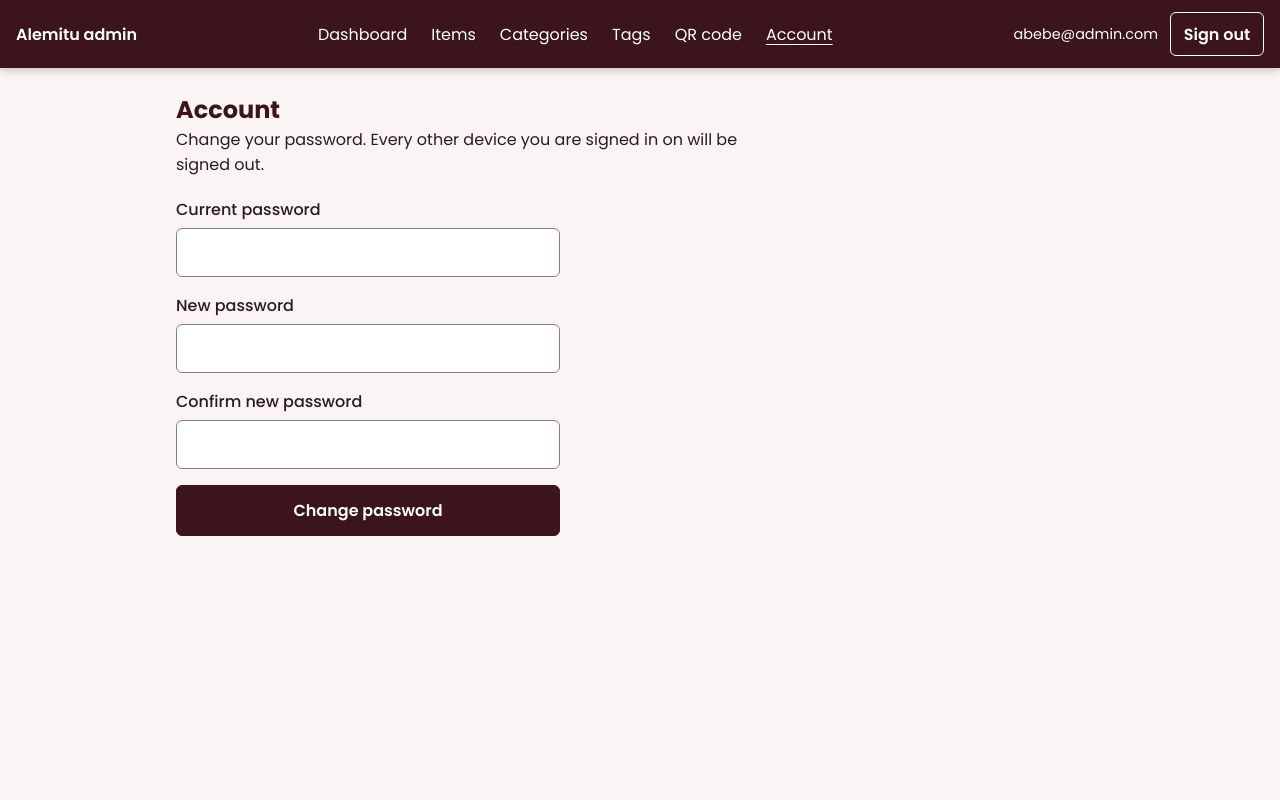
Test case: account settings › explains a too-short password and sends nothing
Type "old-password-123" into the password field labelled "Current password" at (368, 252), box [176, 228, 560, 277]
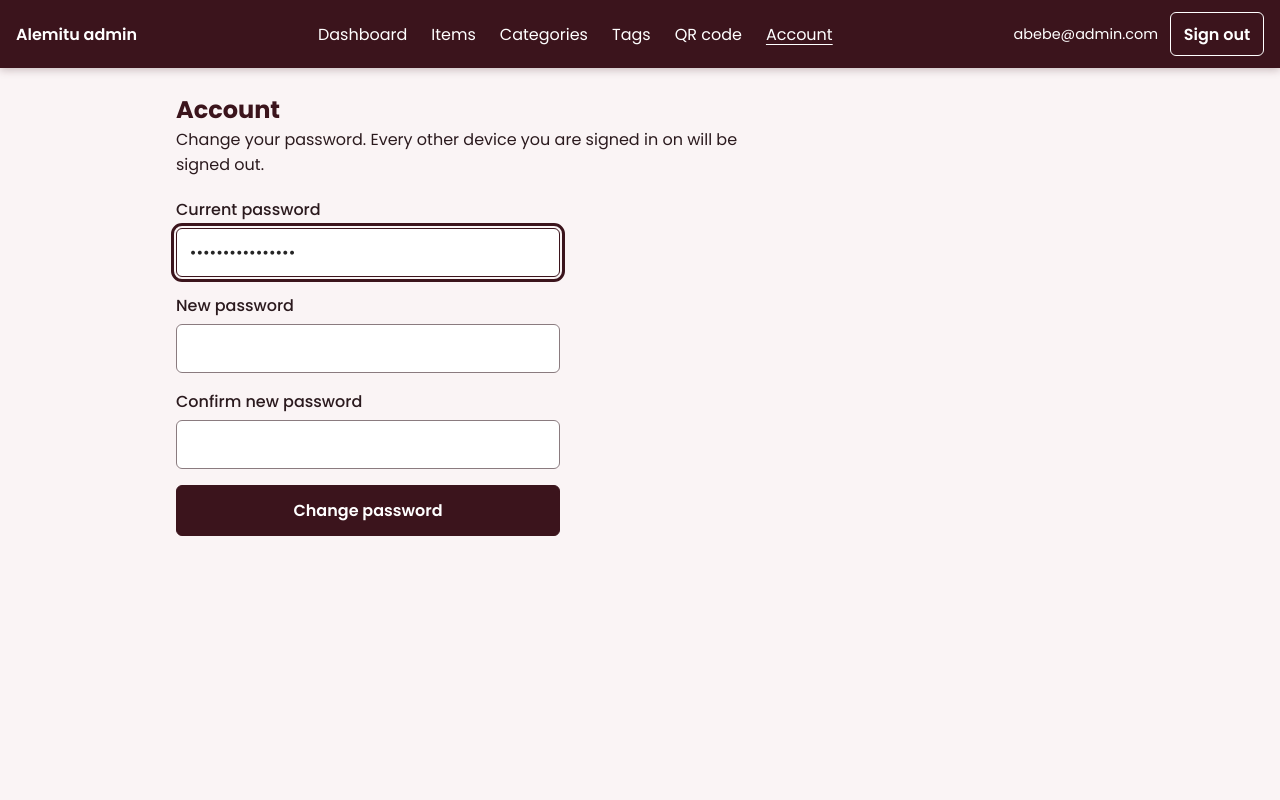
Type "short" into the password field labelled "New password" at (368, 348), box [176, 324, 560, 373]
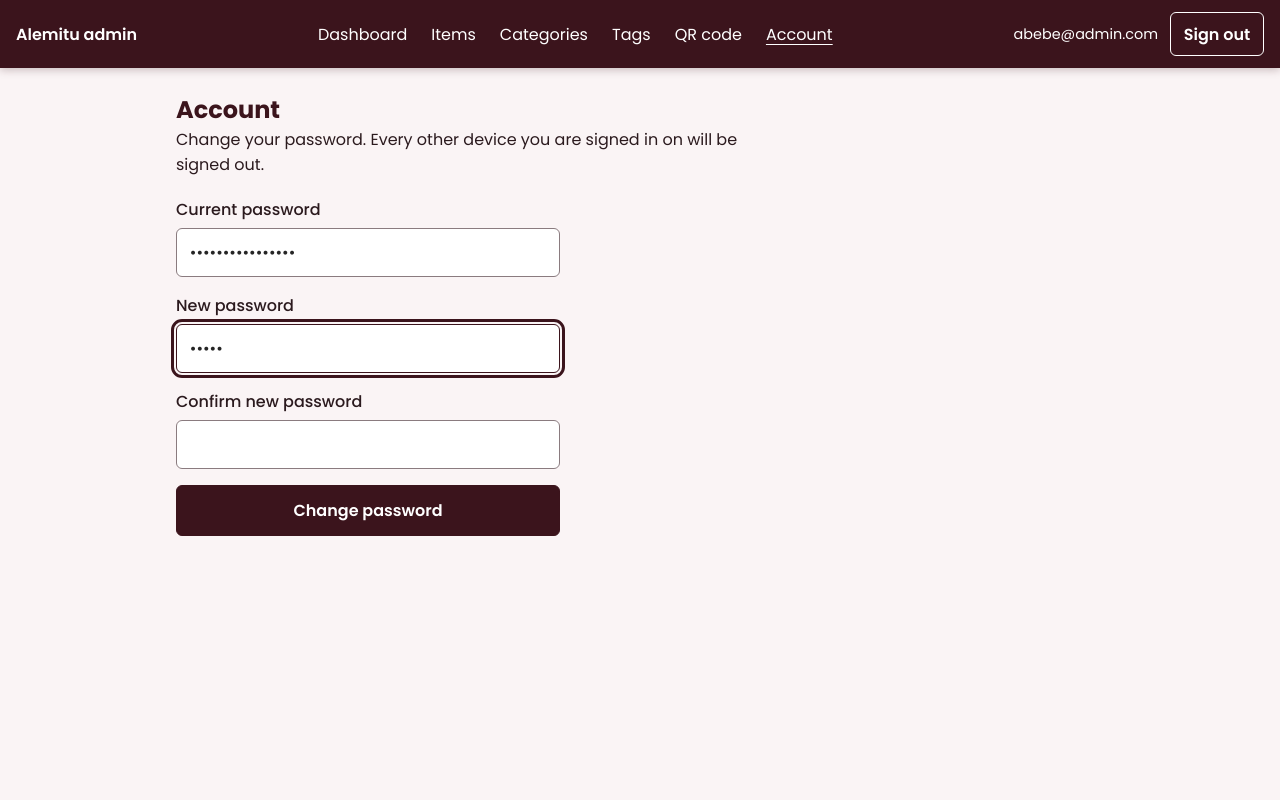
Type "short" into the password field labelled "Confirm new password" at (368, 444), box [176, 420, 560, 469]
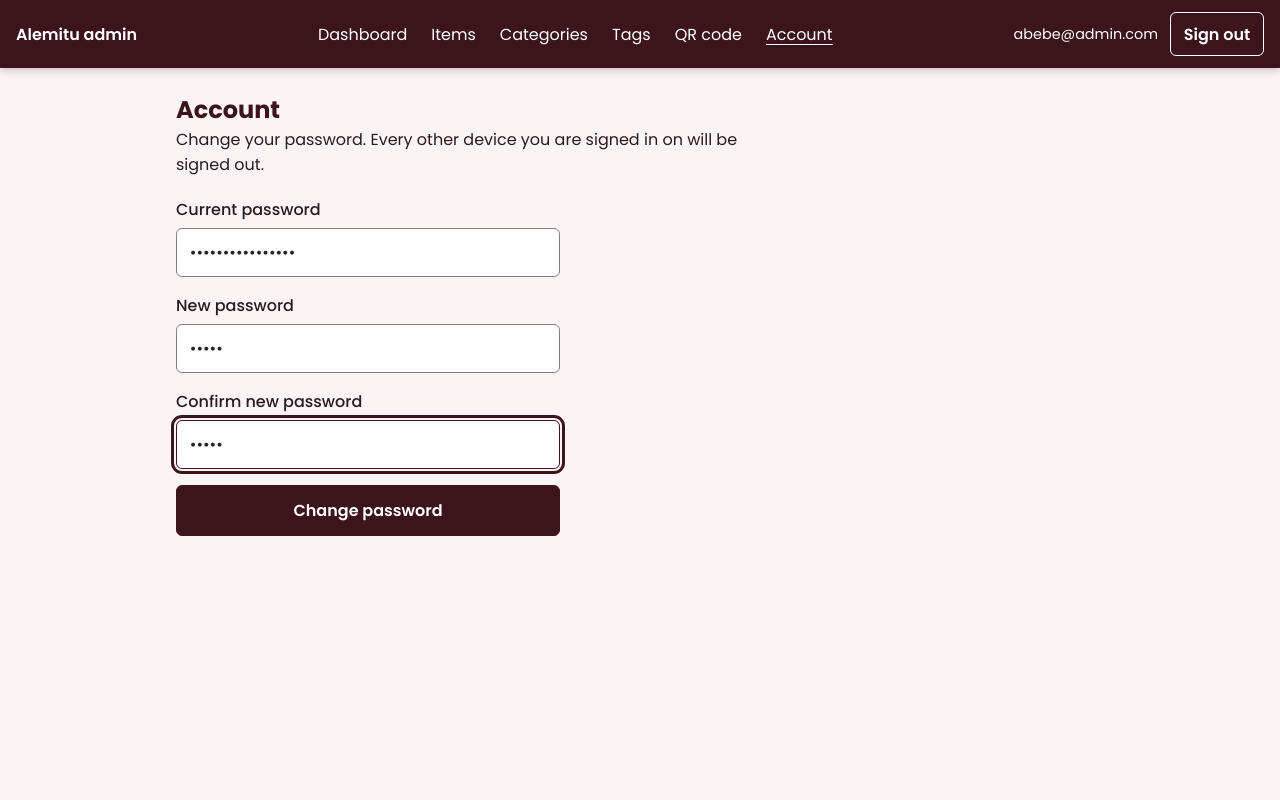
Click the button "Change password" at (368, 510), box [176, 485, 560, 536]
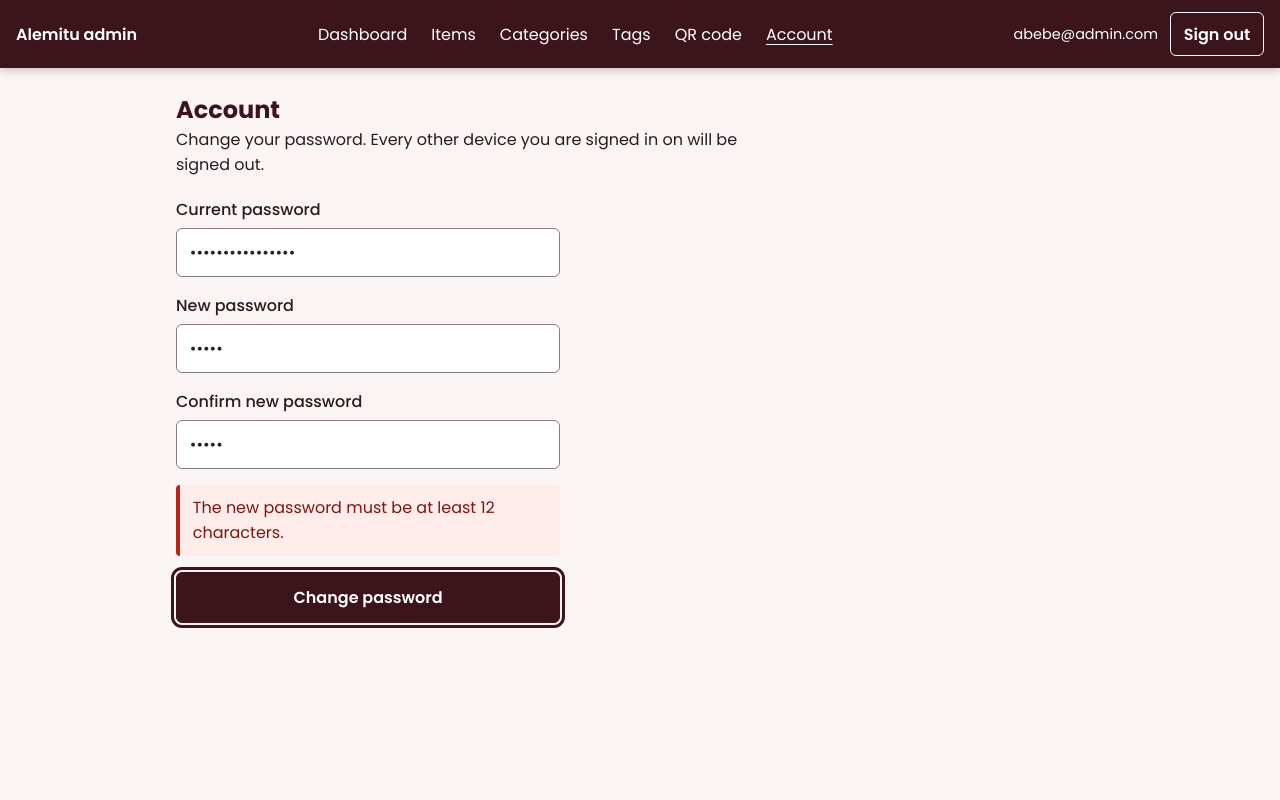
Result: the message shows "at least 12" at [193, 496, 495, 544]
